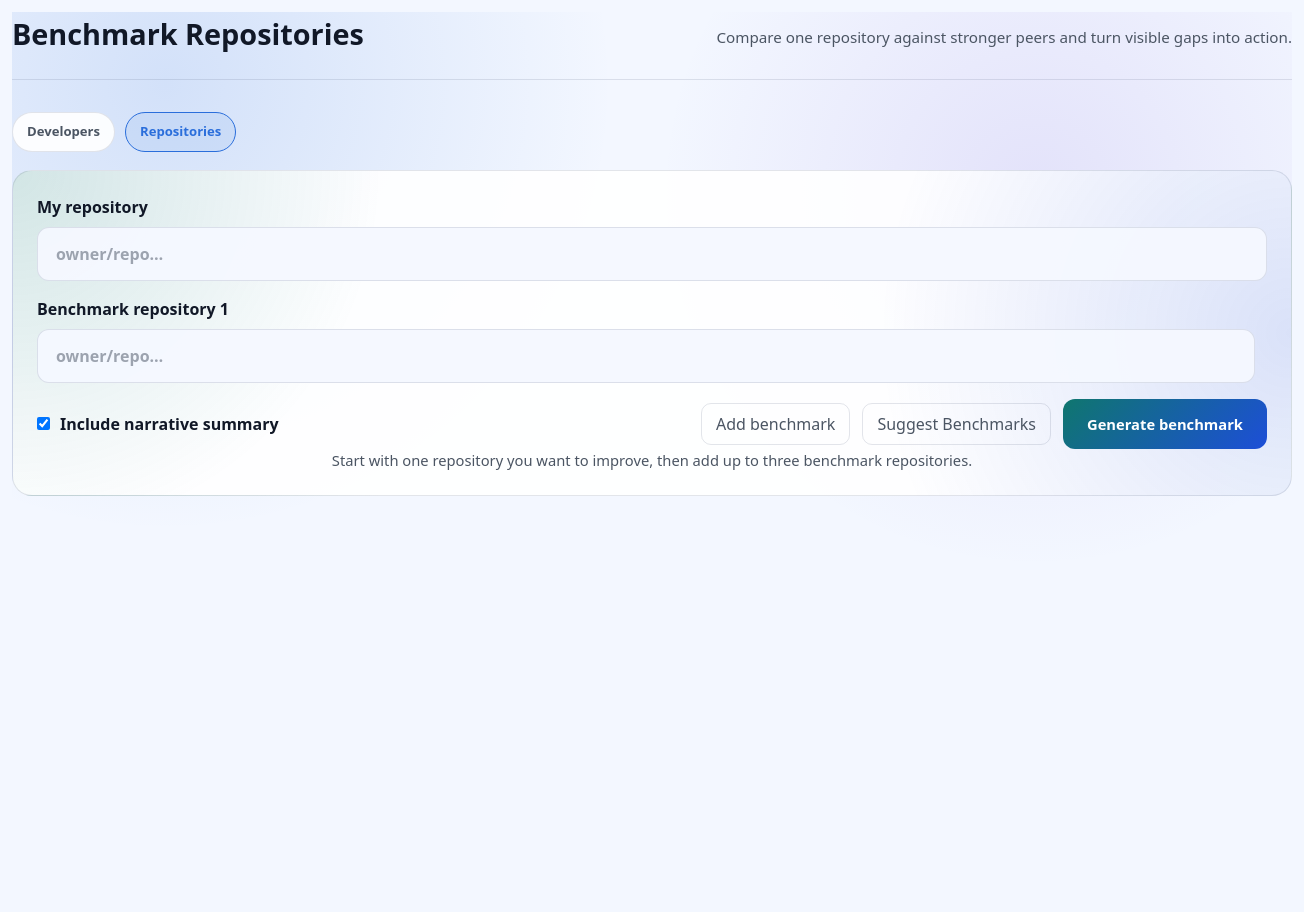
Test: CompareRepos › input validation (Requirement 2.1) › shows error when mine repo is empty and submit is clicked
This screenshot has width=1304, height=912.
Step 1. Click the button "Generate benchmark" → click(1165, 424), box [1063,399,1267,449]
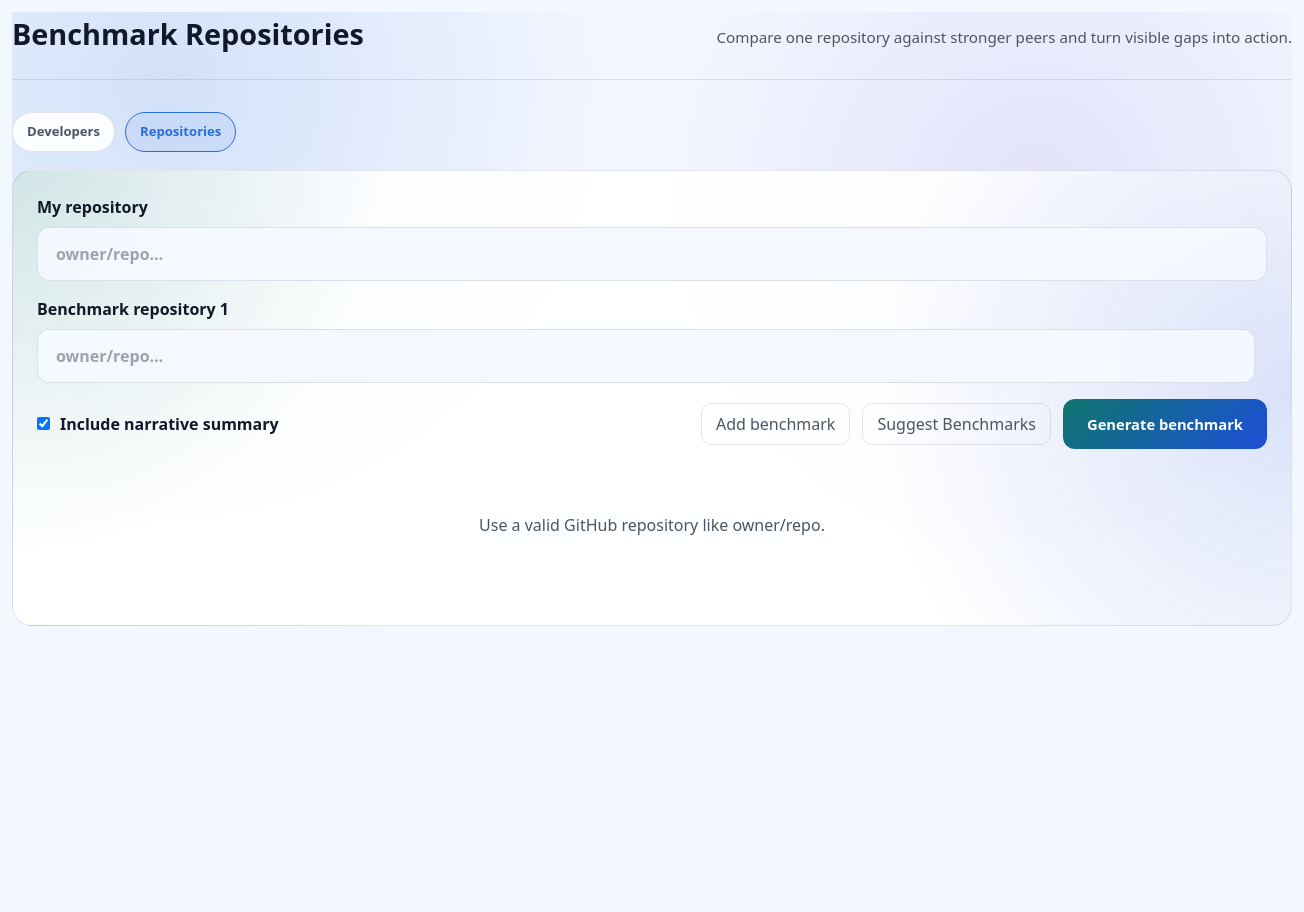
Now the text "Use a valid GitHub repository like owner/repo." is shown, box [479,514,825,536]
